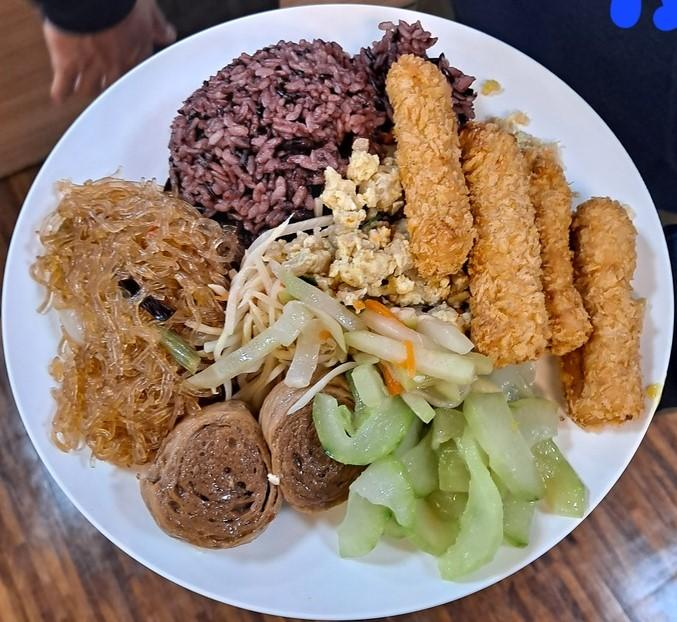big fried chicken leg: (3, 6, 677, 622)
braised fish: (169, 20, 469, 234)
braised fish fillet: (215, 141, 468, 401), (311, 360, 591, 584), (33, 170, 236, 469), (142, 373, 366, 553)
braised pork: (387, 56, 650, 432)
